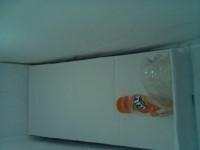bottle: (0, 57, 35, 126)
